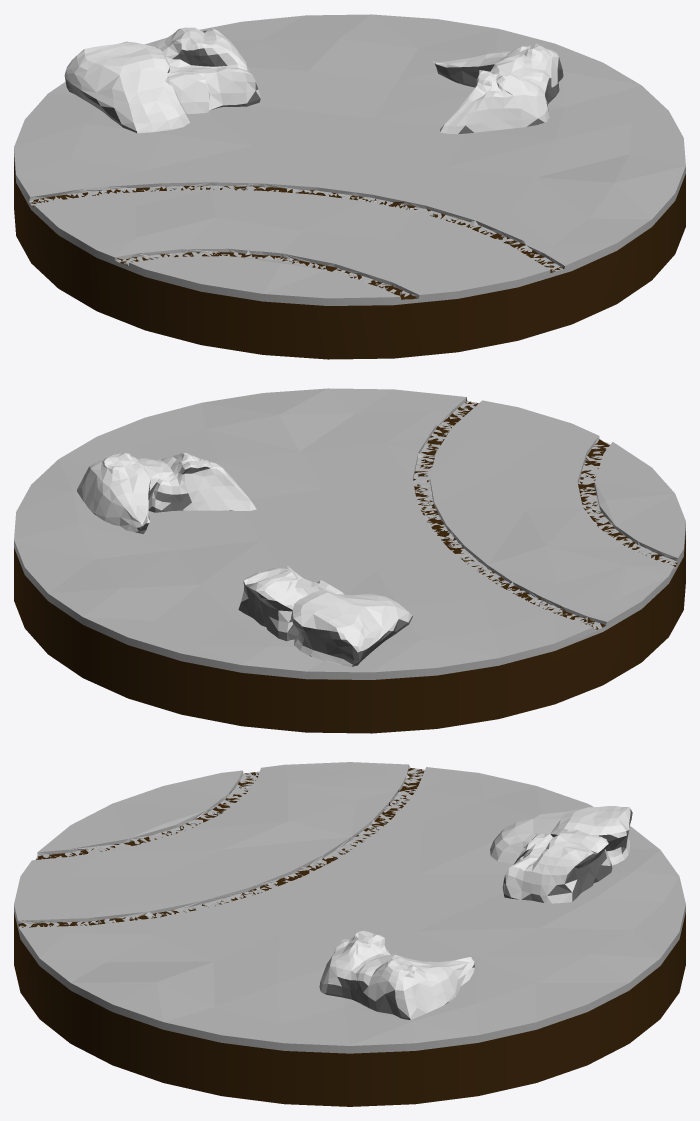
File: Biome_Snow_LD.glb
The picture shows the model from 3 angles, top to bottom: view 1: azimuth 30°, elevation 25°; view 2: azimuth 150°, elevation 25°; view 3: azimuth 270°, elevation 25°; orthographic projection.
Visible parts, largest first — view 1: SnowBiome; view 2: SnowBiome; view 3: SnowBiome.
Boxes of the visible parts, bbox=[...] form: SnowBiome: bbox=[14, 14, 685, 359]; SnowBiome: bbox=[14, 388, 685, 733]; SnowBiome: bbox=[14, 762, 685, 1106].
Size of the model in its own units: 12.19 by 2.19 by 12.19.
